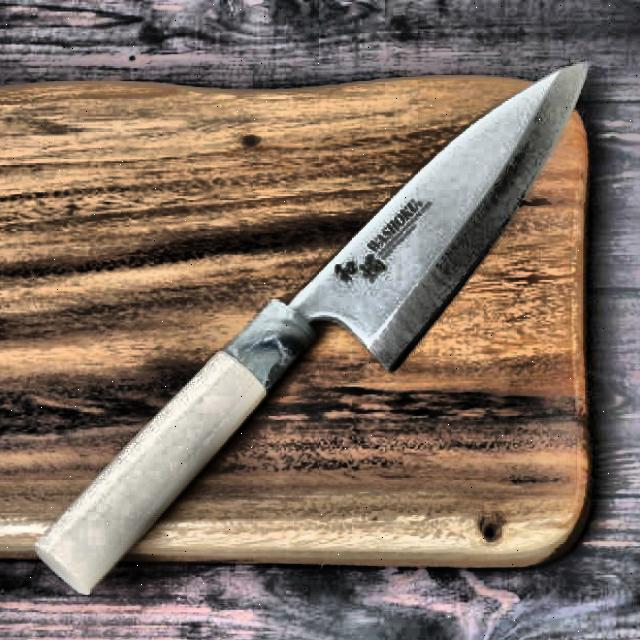knife: (32, 58, 595, 596)
